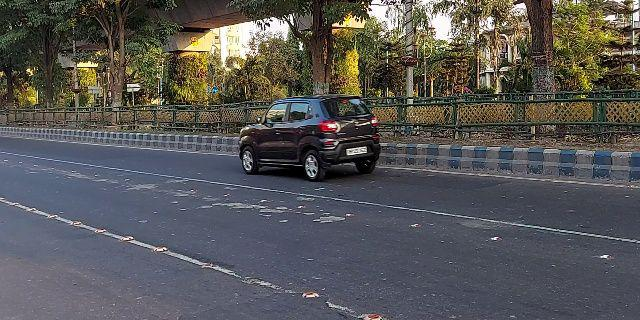Car: (235, 93, 382, 184)
